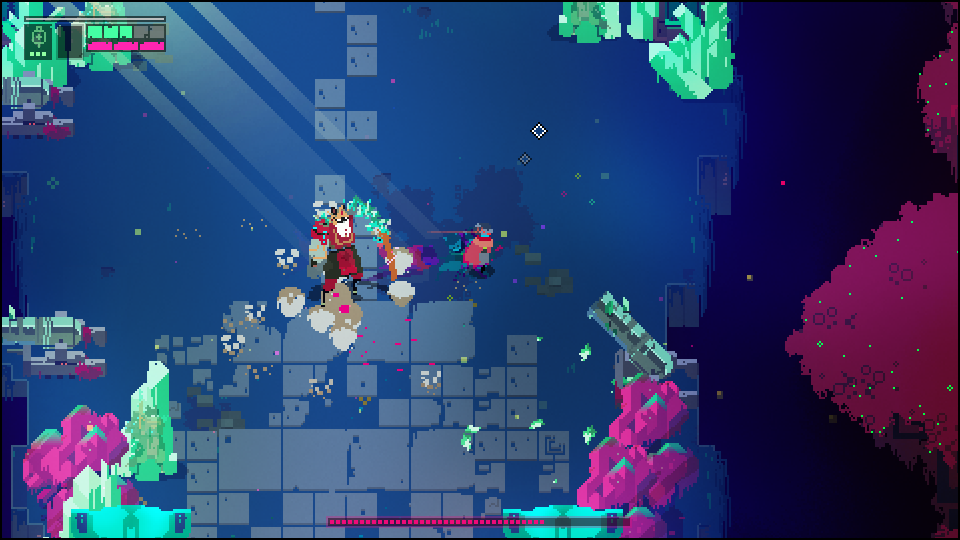hanged_man: (310, 196, 390, 300)
player: (460, 226, 495, 272)
